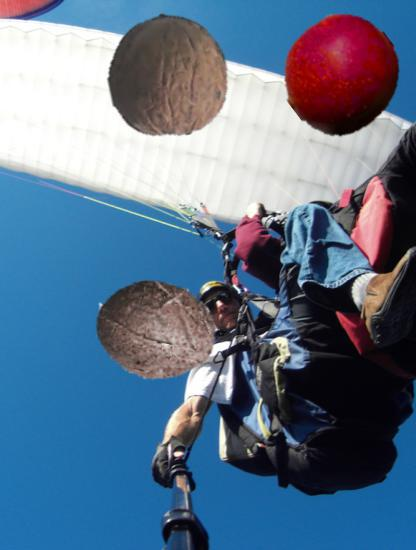Cocos: (94, 269, 218, 393)
Nectarine: (282, 15, 401, 134)
Walnut: (105, 13, 231, 139)
